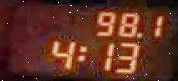-: (133, 31, 142, 37)
1: (102, 42, 113, 71), (152, 14, 162, 37)
3: (113, 41, 138, 72)
4: (48, 40, 75, 70)
8: (117, 12, 137, 37)
9: (93, 11, 115, 36)
X: (75, 45, 86, 61)
